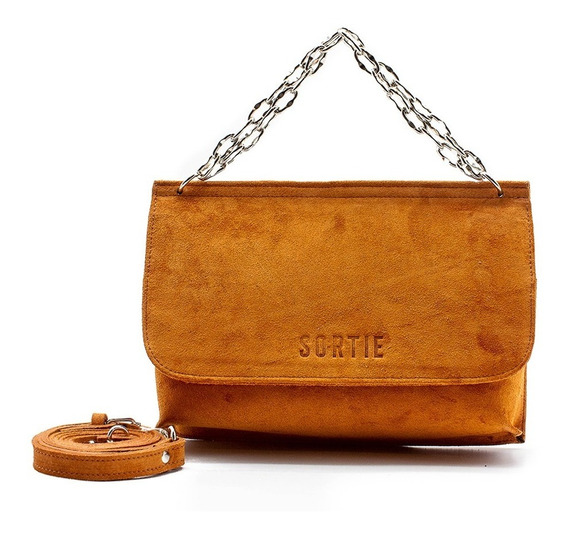cartera: (140, 28, 539, 445)
